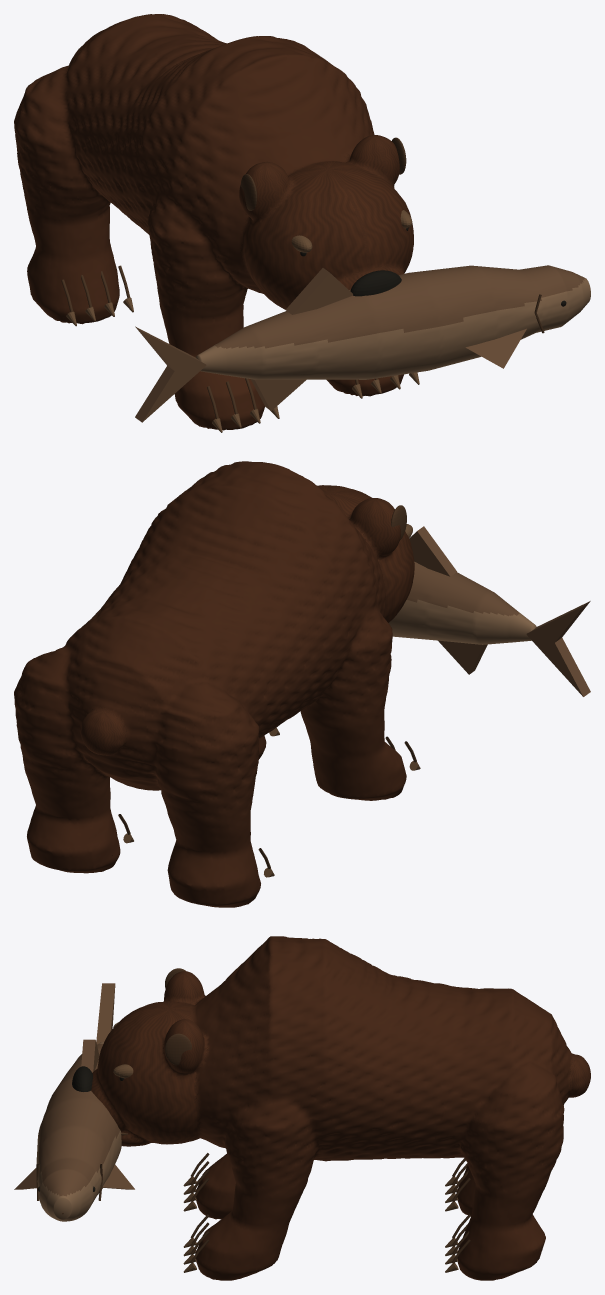
File: hokkaido_bear_pbr.glb
The picture shows the model from 3 angles, top to bottom: view 1: azimuth 30°, elevation 25°; view 2: azimuth 150°, elevation 25°; view 3: azimuth 270°, elevation 25°; orthographic projection. The views are drawn at different scales.
Parts seen in each view (by area): view 1: Kuma_Handcarved_OnePiece, Salmon_Tapered_Body, Salmon_Forked_Tail, Salmon_DorsalFin, Salmon_PectoralFin-1, Salmon_AnalFin, Bear_Black_Carved_Nose; view 2: Kuma_Handcarved_OnePiece, Salmon_Tapered_Body, Salmon_Forked_Tail, Salmon_DorsalFin, Salmon_AnalFin; view 3: Kuma_Handcarved_OnePiece, Salmon_Tapered_Body, Salmon_Forked_Tail, EarWell_-1, Salmon_DorsalFin, Bear_Black_Carved_Nose.
Boxes of the visible parts, x1,y1,x2,y2 form: Kuma_Handcarved_OnePiece: (14, 14, 413, 430); Salmon_Tapered_Body: (195, 265, 590, 379); Salmon_Forked_Tail: (135, 326, 206, 422); Salmon_DorsalFin: (285, 268, 352, 314); Salmon_PectoralFin-1: (465, 328, 526, 368); Salmon_AnalFin: (250, 379, 306, 410); Bear_Black_Carved_Nose: (350, 270, 401, 296); Kuma_Handcarved_OnePiece: (14, 461, 414, 907); Salmon_Tapered_Body: (388, 561, 536, 644); Salmon_Forked_Tail: (526, 601, 590, 696); Salmon_DorsalFin: (409, 526, 456, 576); Salmon_AnalFin: (438, 640, 487, 674); Kuma_Handcarved_OnePiece: (91, 936, 590, 1280); Salmon_Tapered_Body: (36, 1042, 121, 1221); Salmon_Forked_Tail: (96, 983, 115, 1044); EarWell_-1: (165, 1033, 191, 1065); Salmon_DorsalFin: (81, 1039, 99, 1072); Bear_Black_Carved_Nose: (72, 1066, 92, 1091).
Size of the model in its own units: 2.62 by 1.93 by 3.46.
Materials: 7 (1 with a texture image).
